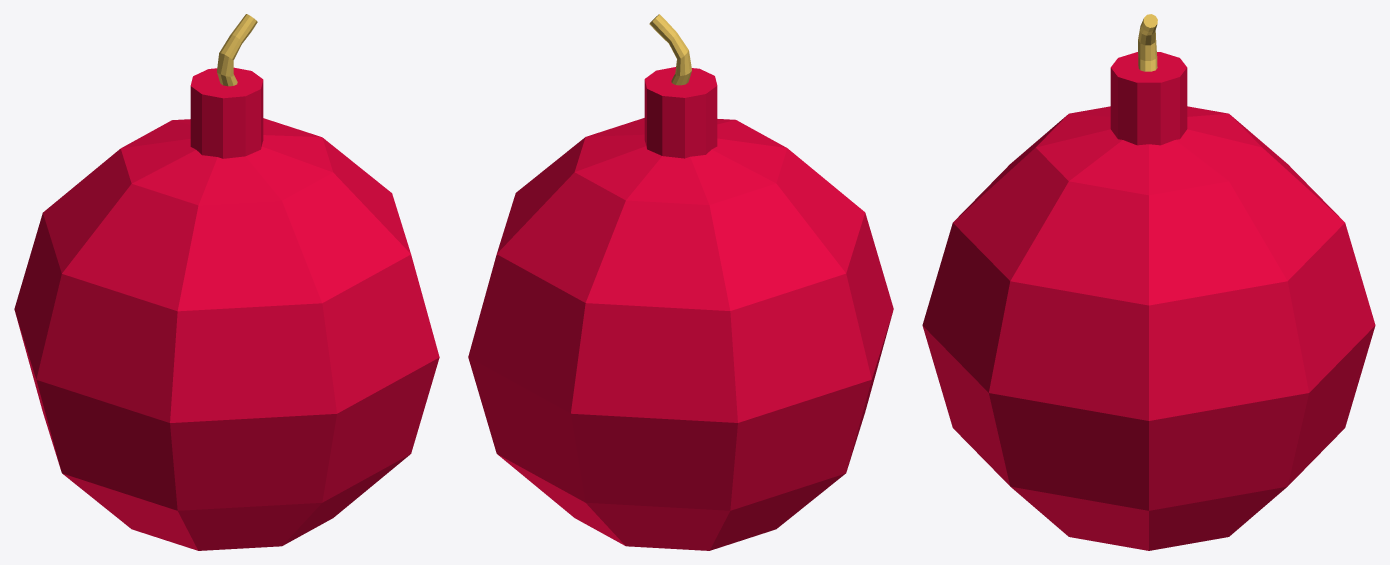
Rendered from bomb.fbx.
3 renders of one model, left to right at view 1: azimuth 30°, elevation 25°; view 2: azimuth 150°, elevation 25°; view 3: azimuth 270°, elevation 25°, orthographic. The views are drawn at different scales.
Visible parts, largest first — view 1: Bomb, Neck, Flint; view 2: Bomb, Neck, Flint; view 3: Bomb, Neck, Flint.
Part boxes in pixels (box(x1,y1,x2,y2)): Bomb: box(14, 118, 439, 550); Neck: box(190, 67, 263, 158); Flint: box(217, 14, 257, 86); Bomb: box(468, 118, 893, 550); Neck: box(644, 67, 717, 158); Flint: box(649, 14, 691, 85); Bomb: box(922, 106, 1375, 550); Neck: box(1110, 52, 1187, 145); Flint: box(1138, 14, 1157, 71).
Size of the model in its own units: 143 by 184 by 143.
